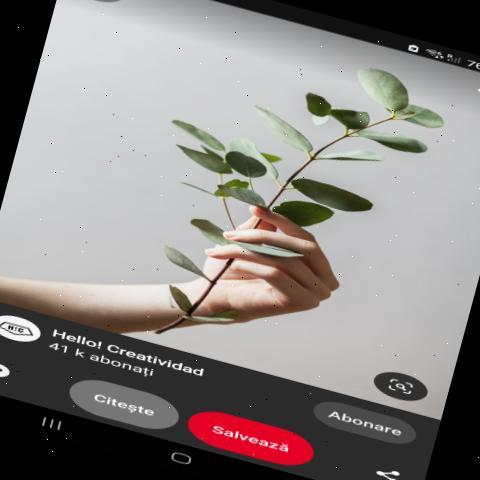Hands: (206, 198, 363, 350)
